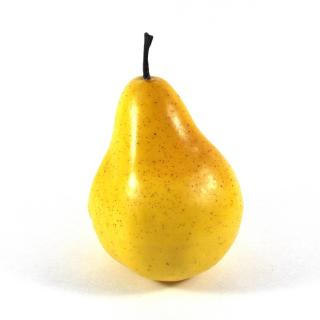Pear: (88, 74, 243, 281)
